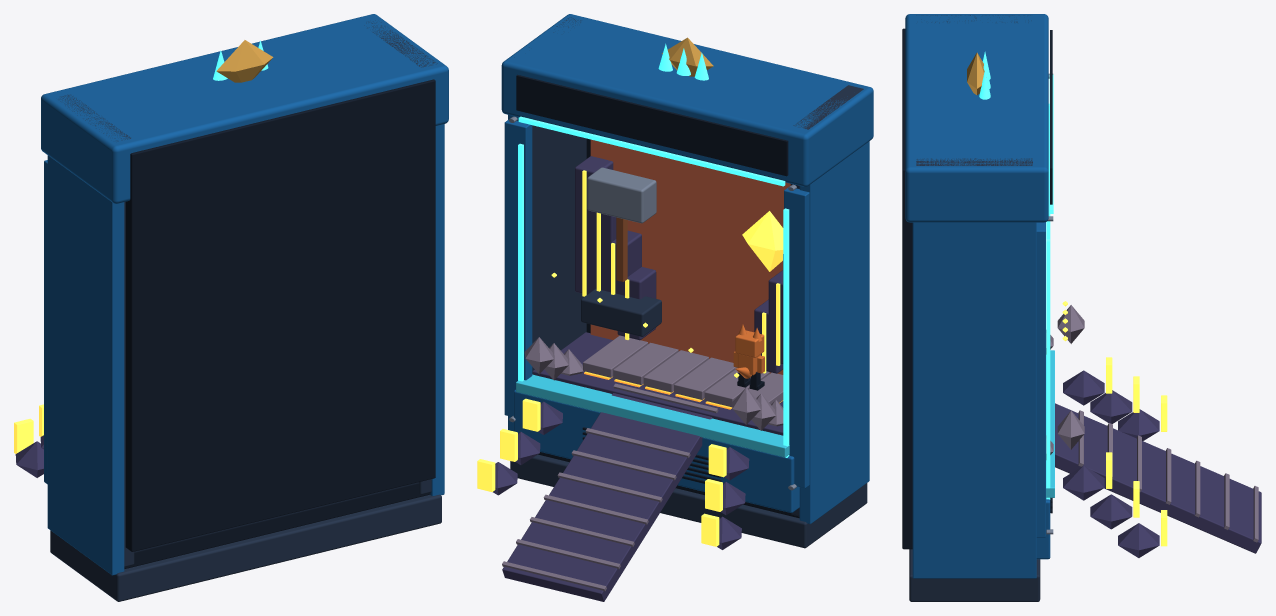
File: runner-forge.glb
The picture shows the model from 3 angles, left to right: view 1: azimuth 30°, elevation 25°; view 2: azimuth 150°, elevation 25°; view 3: azimuth 270°, elevation 25°; orthographic projection. The views are drawn at different scales.
Parts seen in each view (by area): view 1: back, colored_side (×2), hood, base, plinth, side (×2), crown, front_rail, spill_rock, lava_fall; view 2: hood, world_backdrop, colored_side, entry_bridge, front_rail (×2), side (×2), marquee, forge_pillar (×6), path (×6), footer, base, screen_sill (+14 smaller); view 3: colored_side, hood, entry_bridge, spill_rock (×6), back, base, front_rail, forge_rock (×2), light_rail, screen_sill, side, crown (+2 smaller).
Boxes of the visible parts, left/top/right/bottom form: back: left=125, top=79, right=435, bottom=551; colored_side (×2): left=47, top=124, right=444, bottom=575; hood: left=41, top=14, right=448, bottom=203; base: left=50, top=494, right=441, bottom=601; plinth: left=124, top=482, right=430, bottom=568; side (×2): left=58, top=20, right=437, bottom=566; crown: left=216, top=40, right=273, bottom=82; front_rail: left=44, top=160, right=47, bottom=484; spill_rock: left=15, top=441, right=43, bottom=477; lava_fall: left=14, top=418, right=33, bottom=453; hood: left=501, top=14, right=873, bottom=186; world_backdrop: left=590, top=139, right=790, bottom=374; colored_side: left=799, top=141, right=869, bottom=523; entry_bridge: left=502, top=389, right=713, bottom=601; front_rail (×2): left=504, top=119, right=809, bottom=488; side (×2): left=514, top=17, right=863, bottom=516; marquee: left=516, top=74, right=788, bottom=176; forge_pillar (×6): left=575, top=156, right=783, bottom=373; path (×6): left=583, top=335, right=783, bottom=407; footer: left=513, top=389, right=799, bottom=512; base: left=510, top=454, right=867, bottom=548; screen_sill: left=516, top=374, right=789, bottom=457; colored_side: left=912, top=222, right=1036, bottom=578; hood: left=905, top=14, right=1048, bottom=222; entry_bridge: left=1055, top=403, right=1261, bottom=553; spill_rock (×6): left=1063, top=370, right=1159, bottom=557; back: left=902, top=28, right=912, bottom=549; base: left=909, top=549, right=1040, bottom=601; front_rail: left=1036, top=222, right=1045, bottom=537; forge_rock (×2): left=1057, top=305, right=1084, bottom=449; light_rail: left=1046, top=239, right=1050, bottom=499; screen_sill: left=1046, top=350, right=1054, bottom=497; side: left=916, top=158, right=1032, bottom=165; crown: left=967, top=52, right=984, bottom=94.
Bounding box in the file's own units: 3.23 × 4.58 × 3.13.
